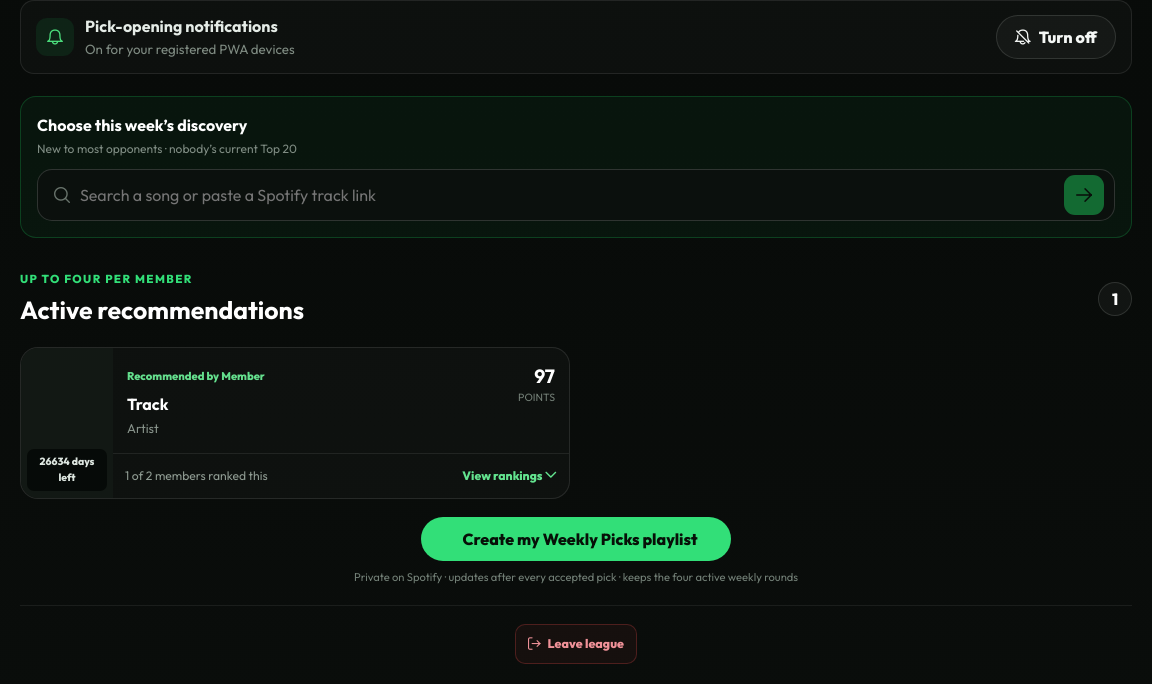
SongLeagueDetailComponent notifications › summarizes recommendation rankings and discloses dash-based details on demand
(page scrolled)
Click the button with class "recommendation-rankings-toggle": (196, 475) [113,453,569,498]
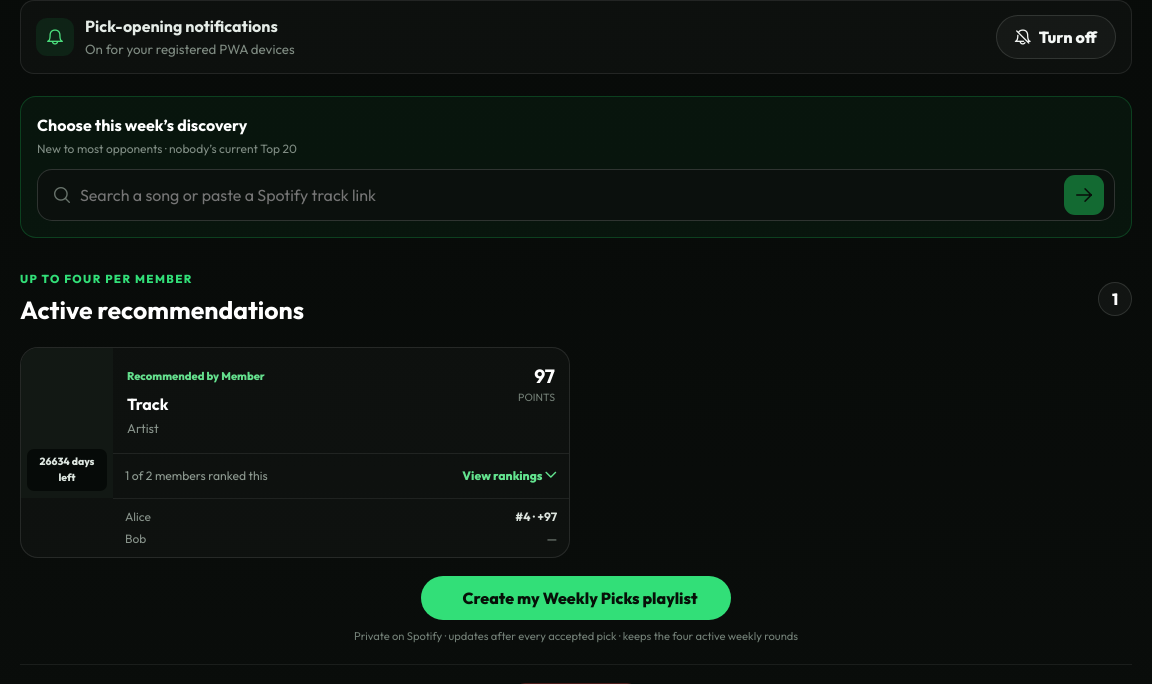
expect the element with class "listener-position-list" shows "#4 · +97": met, box [515,509,557,524]
expect the element with class "listener-position-list" shows "—": met, box [547,531,557,546]
